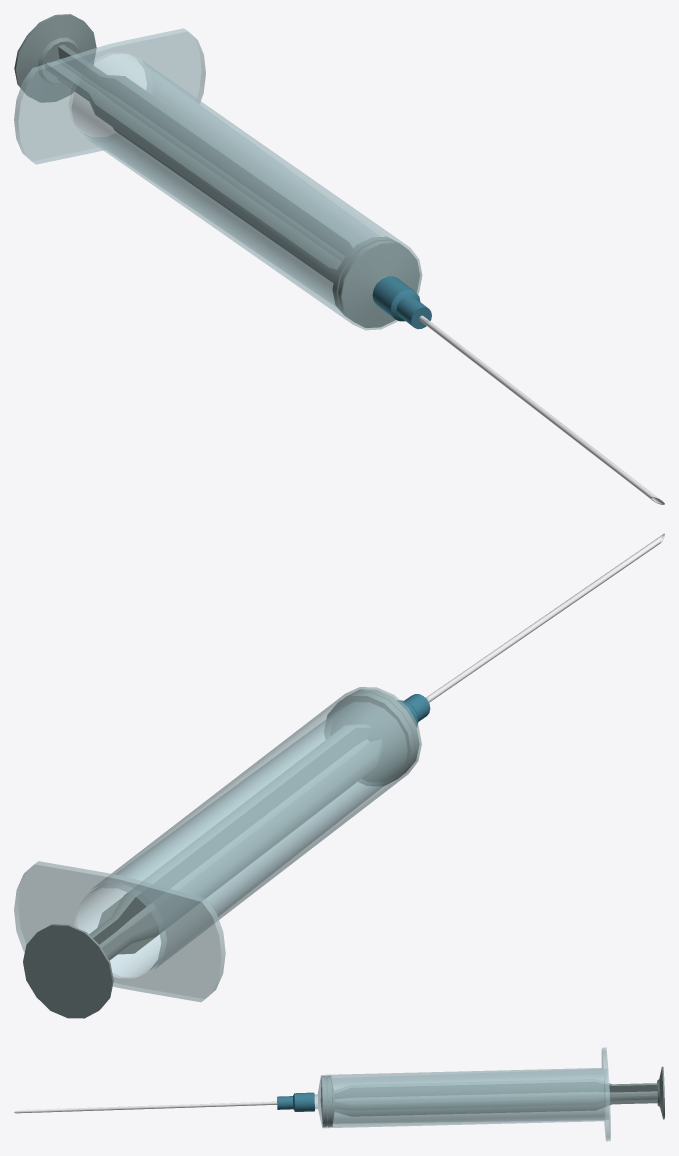
File: Injection.fbx
The picture shows the model from 3 angles, top to bottom: view 1: azimuth 30°, elevation 25°; view 2: azimuth 150°, elevation 25°; view 3: azimuth 270°, elevation 25°; orthographic projection. The views are drawn at different scales.
Visible parts, largest first — view 1: polySurface5, polySurface6, Niddle; view 2: polySurface5, polySurface6, Niddle; view 3: polySurface5, polySurface6, Niddle.
Part boxes in pixels (left/top/right/bottom): polySurface5: left=14, top=28, right=422, bottom=330; polySurface6: left=14, top=14, right=419, bottom=327; Niddle: left=372, top=276, right=664, bottom=504; polySurface5: left=14, top=687, right=421, bottom=1002; polySurface6: left=23, top=689, right=419, bottom=1018; Niddle: left=397, top=533, right=664, bottom=726; polySurface5: left=314, top=1047, right=610, bottom=1141; polySurface6: left=320, top=1066, right=664, bottom=1127; Niddle: left=14, top=1092, right=314, bottom=1113.
Bounding box in the file's own units: 4.67 × 2.37 × 24.75.
